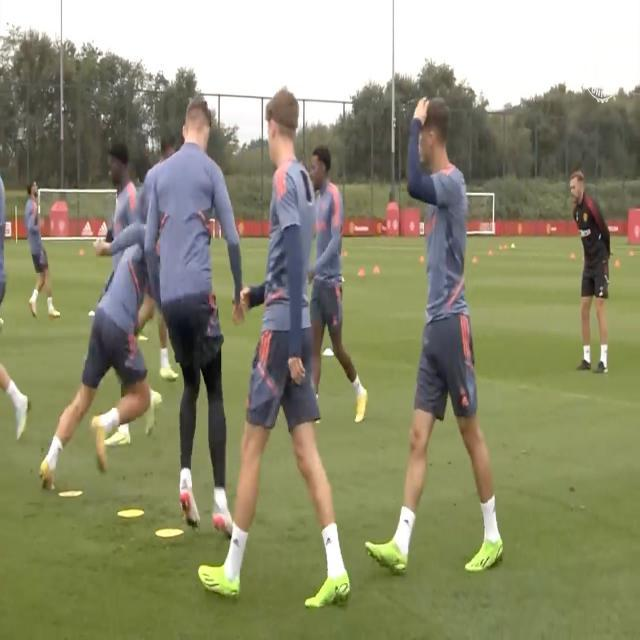Adidas: (98, 220, 110, 240), (82, 219, 93, 239), (461, 393, 472, 411), (231, 534, 242, 551), (325, 532, 334, 548)
